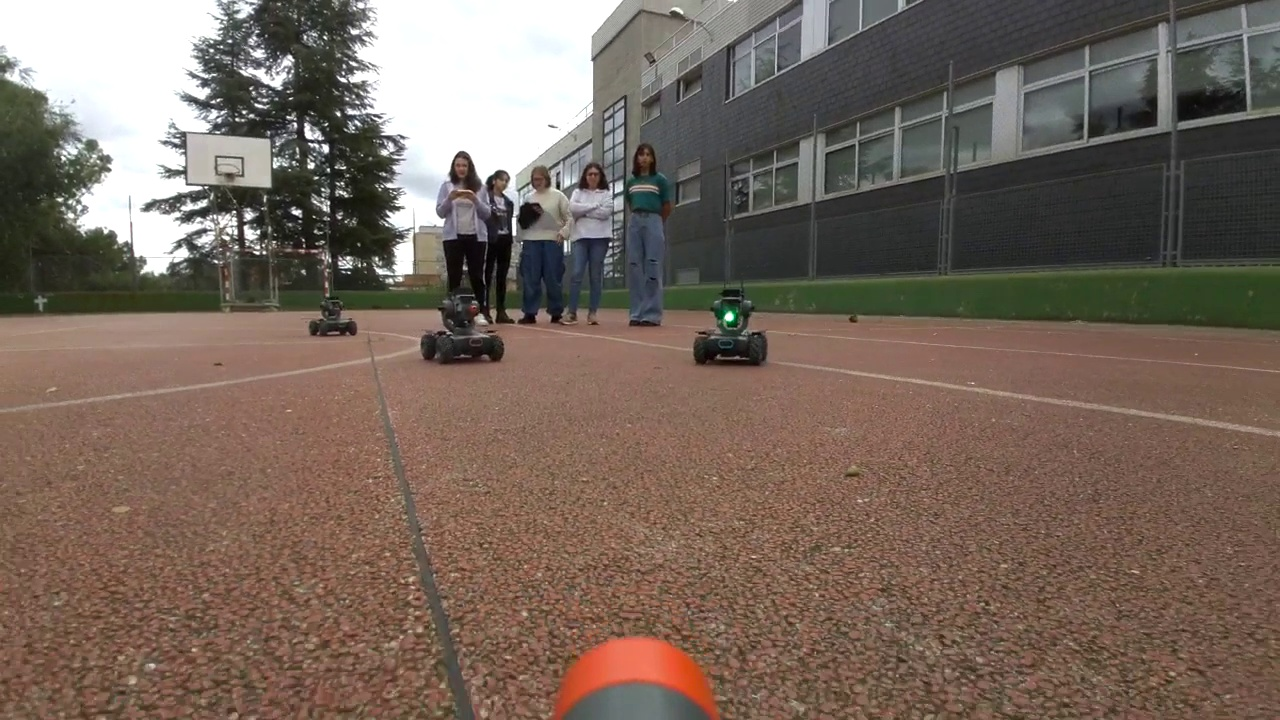robot: (422, 288, 505, 363), (694, 289, 767, 365), (309, 296, 360, 336)
